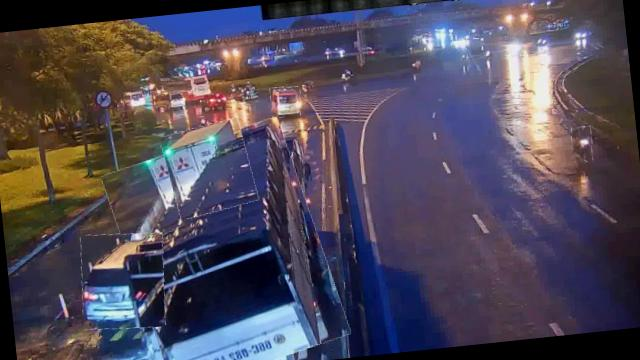Bike: (570, 126, 594, 163)
Bus: (269, 86, 302, 118)
Car: (76, 229, 170, 333)
Truck: (108, 121, 342, 360), (162, 119, 256, 218)
